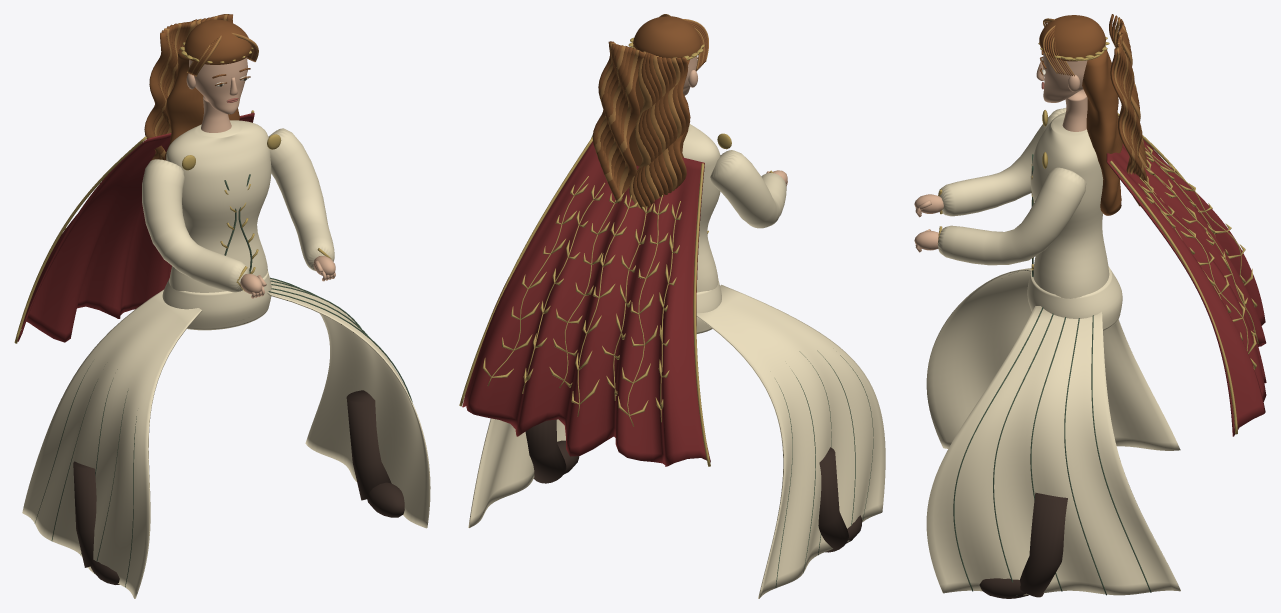
The model's file is princess-v5.glb.
3 renders of one model, left to right at view 1: azimuth 30°, elevation 25°; view 2: azimuth 150°, elevation 25°; view 3: azimuth 270°, elevation 25°, orthographic. The views are drawn at different scales.
Parts seen in each view (by area): view 1: MorrisPrincess_surface, cape_surface, body_surface, head_surface, armL_surface, armR_surface; view 2: cape_surface, MorrisPrincess_surface, head_surface, armL_surface, body_surface; view 3: MorrisPrincess_surface, cape_surface, head_surface, body_surface, armR_surface, armL_surface.
Part boxes in pixels (x1,y1,x2,y2): MorrisPrincess_surface: [22, 271, 430, 598]; cape_surface: [14, 110, 254, 343]; body_surface: [166, 96, 281, 321]; head_surface: [144, 14, 258, 160]; armL_surface: [142, 159, 266, 298]; armR_surface: [268, 128, 335, 281]; cape_surface: [459, 136, 710, 466]; MorrisPrincess_surface: [468, 280, 885, 598]; head_surface: [592, 14, 708, 209]; armL_surface: [710, 150, 787, 228]; body_surface: [682, 124, 731, 292]; MorrisPrincess_surface: [926, 266, 1180, 598]; cape_surface: [1106, 113, 1266, 436]; head_surface: [1036, 14, 1147, 215]; body_surface: [1030, 89, 1109, 298]; armR_surface: [914, 167, 1086, 265]; armL_surface: [914, 108, 1066, 217].
Size of the model in its own units: 0.99 by 1.54 by 0.964.
